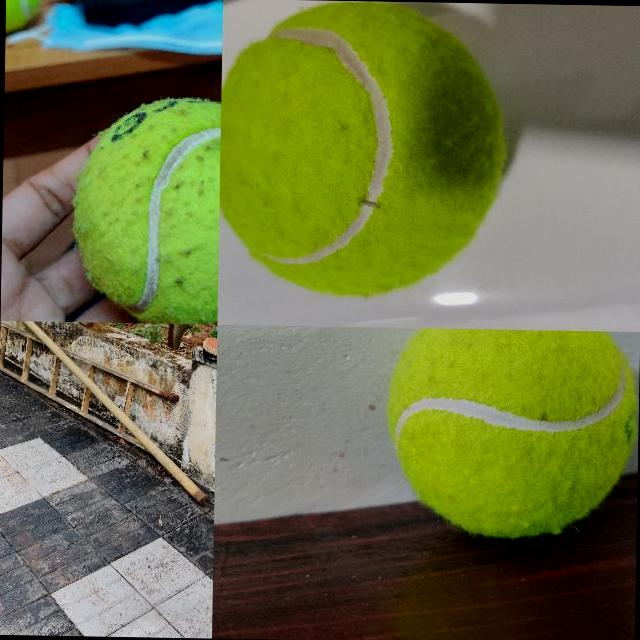Tennis Ball: (217, 0, 512, 301), (384, 328, 639, 542), (70, 94, 220, 324)
